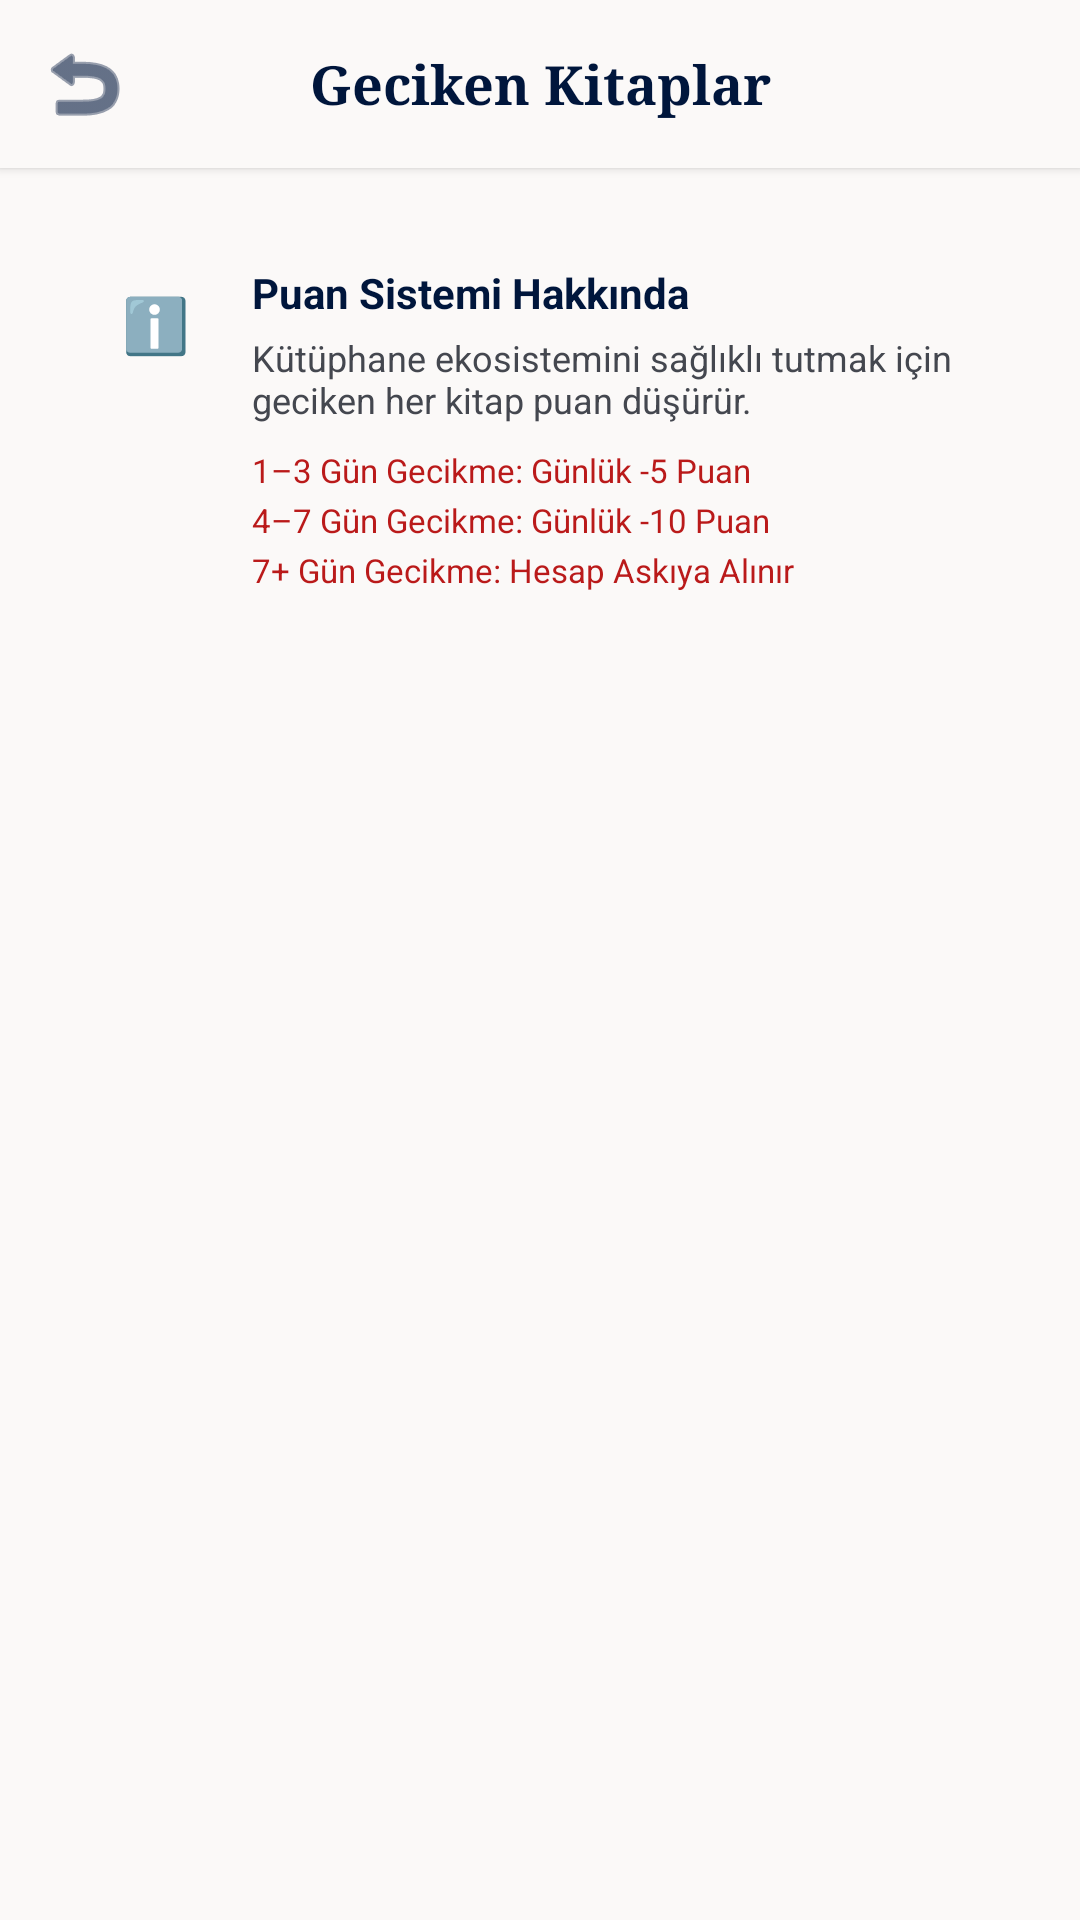

Locate icon controls on the screen. Image size 1080 × 1920, boxes as (x1, y1, x2, y2).
Geri: (51, 53, 120, 116)
